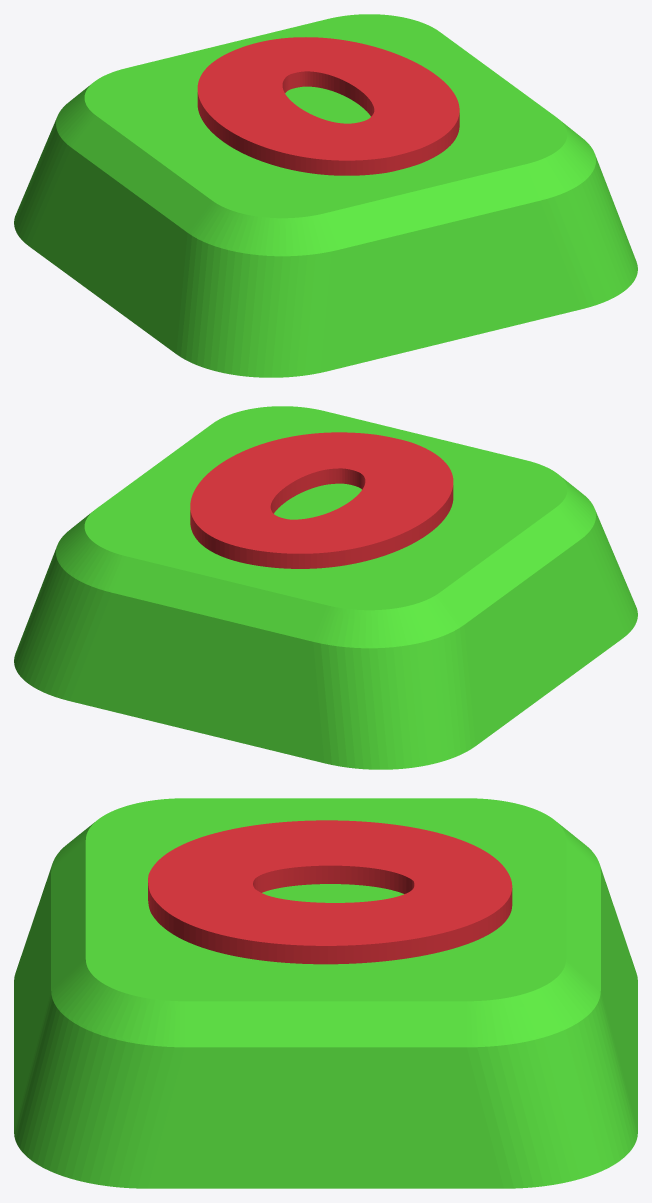
The picture shows the model from 3 angles, top to bottom: view 1: azimuth 30°, elevation 25°; view 2: azimuth 150°, elevation 25°; view 3: azimuth 270°, elevation 25°; orthographic projection. The views are drawn at different scales.
Visible parts, largest first — view 1: CAPS_O, FONT_O; view 2: CAPS_O, FONT_O; view 3: CAPS_O, FONT_O.
Part boxes in pixels (left/top/right/bottom): CAPS_O: left=14, top=14, right=637, bottom=377; FONT_O: left=197, top=37, right=459, bottom=175; CAPS_O: left=14, top=406, right=637, bottom=769; FONT_O: left=190, top=432, right=453, bottom=568; CAPS_O: left=14, top=798, right=637, bottom=1188; FONT_O: left=148, top=820, right=512, bottom=964.
Size of the model in its own units: 18 by 5.59 by 18.
